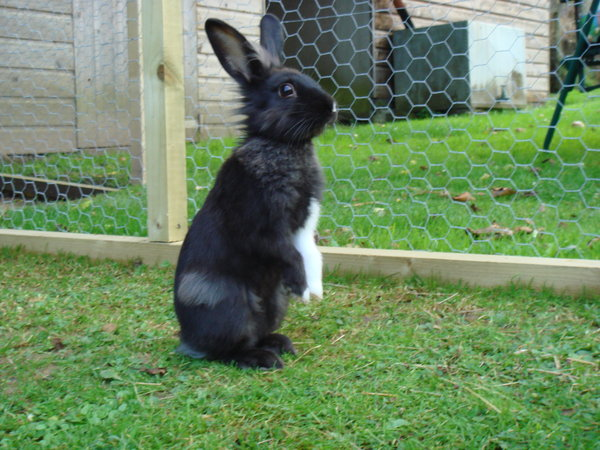bunny: (171, 11, 338, 383)
